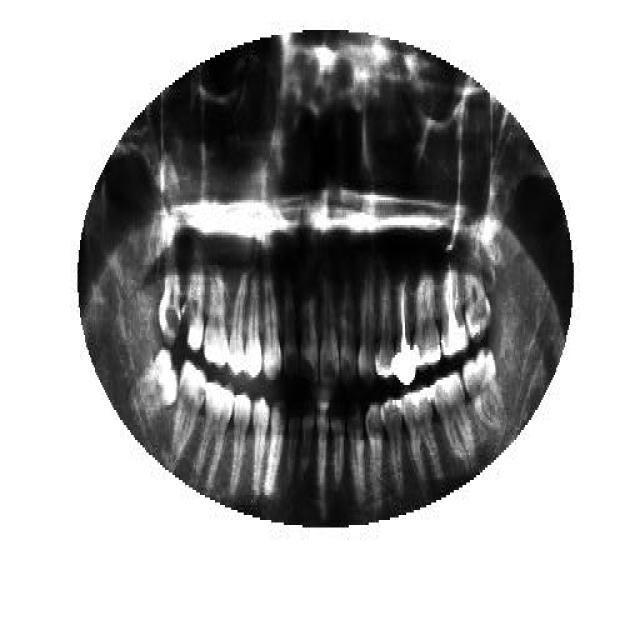Cavity: (158, 255, 182, 347), (182, 258, 206, 350)
Impacted Tooth: (138, 348, 178, 418)
Implant: (441, 265, 469, 355), (394, 278, 416, 388)
